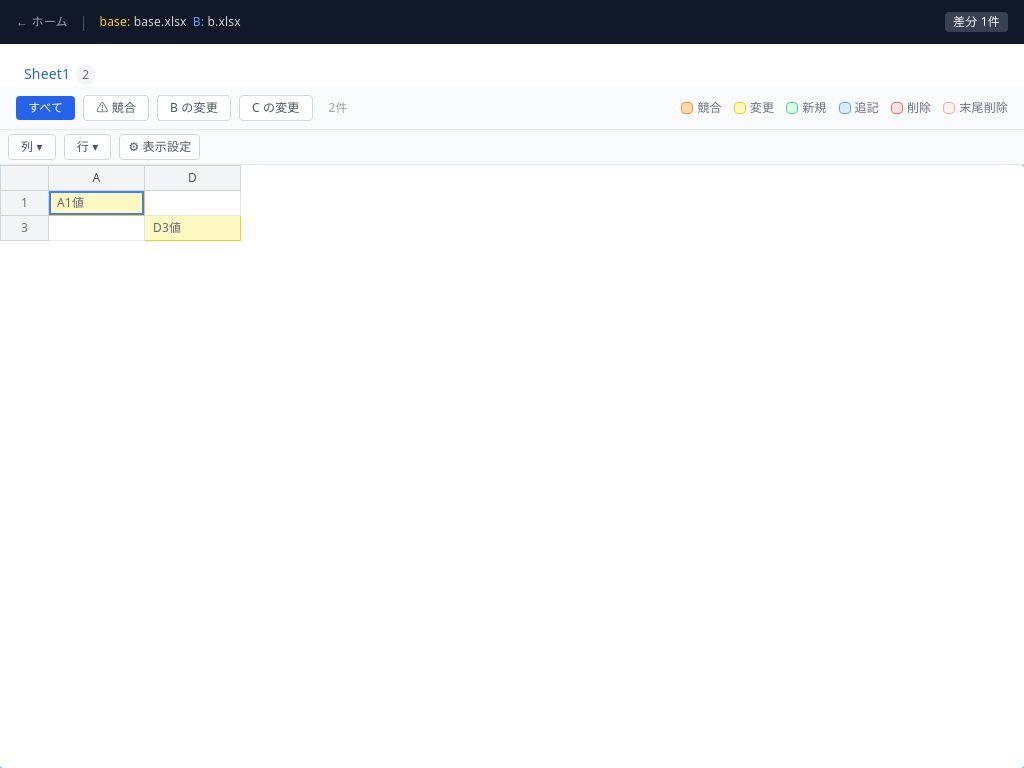
Test case: B-031: 列・行フィルタ › 列を除外するとその列にしか差分がない行も非表示になる
The width and height of the screenshot is (1024, 768).
Expected: the text "D3値" is shown, x1=144 y1=216 x2=240 y2=240
Click the button "列 ▾" at (32, 147), box x1=8 y1=134 x2=56 y2=160
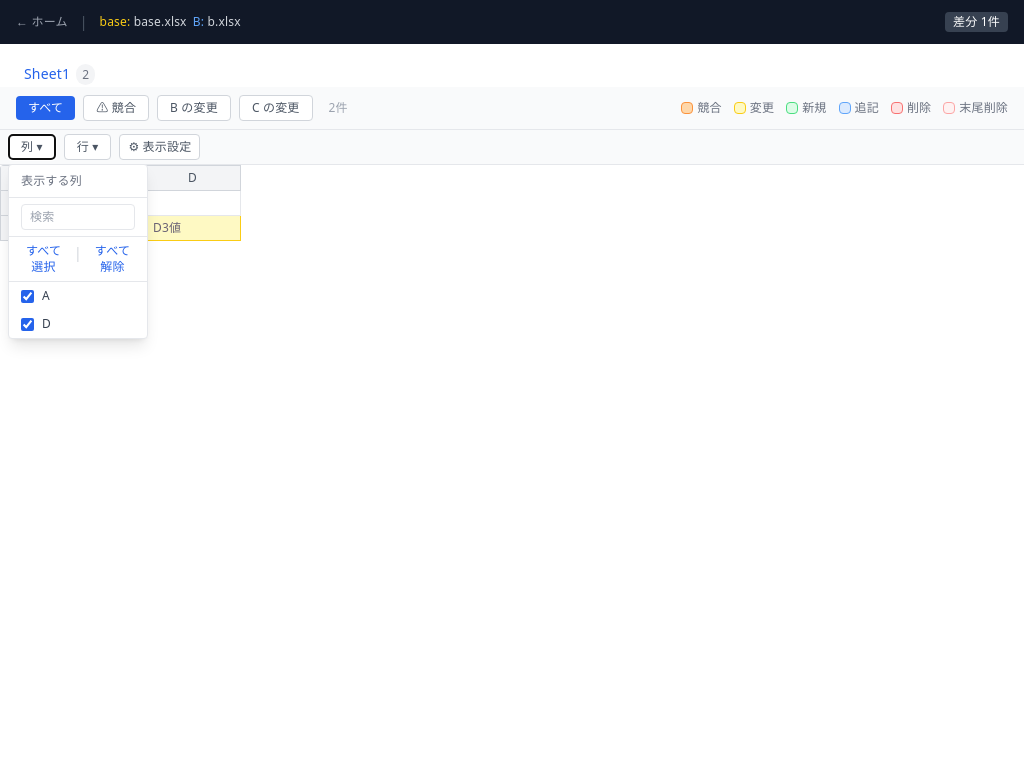
Click the checkbox labelled "D" at (28, 324), box x1=21 y1=318 x2=34 y2=330
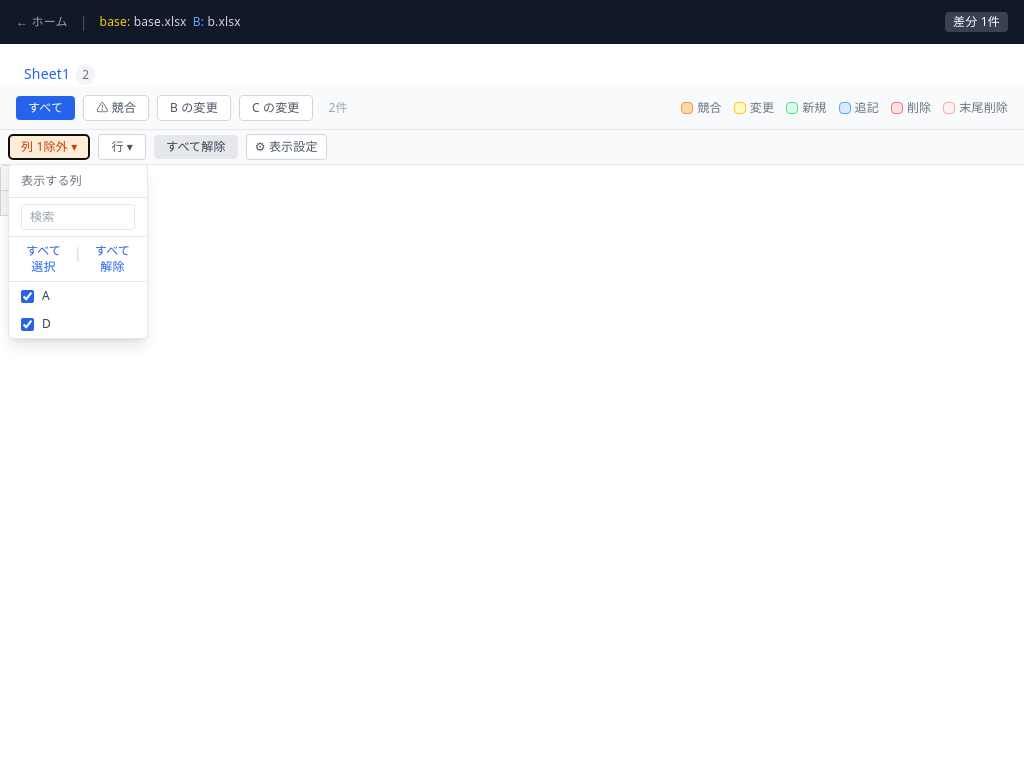
Expected: the text "D3値" is gone
Expected: the text "3" is gone
